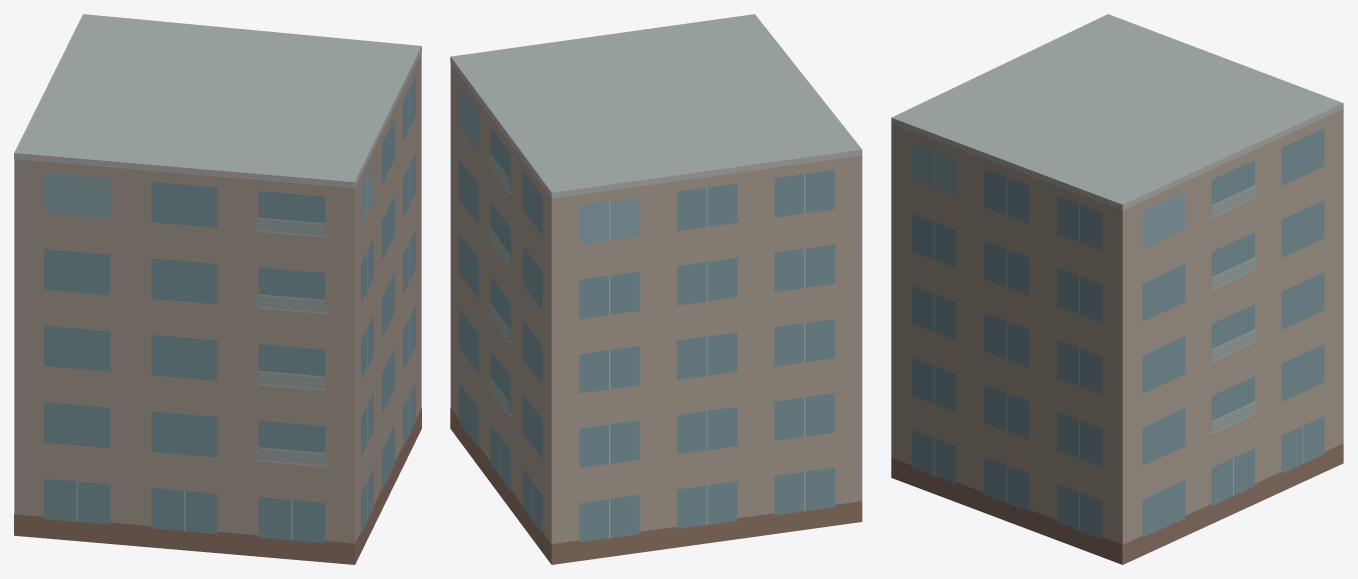
The model's file is survey-upis-32892759.glb.
3 renders of one model, left to right at view 1: azimuth 30°, elevation 25°; view 2: azimuth 150°, elevation 25°; view 3: azimuth 270°, elevation 25°, orthographic. The views are drawn at different scales.
Parts seen in each view (by area): view 1: survey-upis-32892759.tmp; view 2: survey-upis-32892759.tmp; view 3: survey-upis-32892759.tmp.
Boxes of the visible parts, box(x1,y1,x2,y2) form: survey-upis-32892759.tmp: box(14, 14, 421, 564); survey-upis-32892759.tmp: box(450, 14, 862, 564); survey-upis-32892759.tmp: box(891, 14, 1343, 564).
Size of the model in its own units: 17.34 by 15.25 by 17.37.
